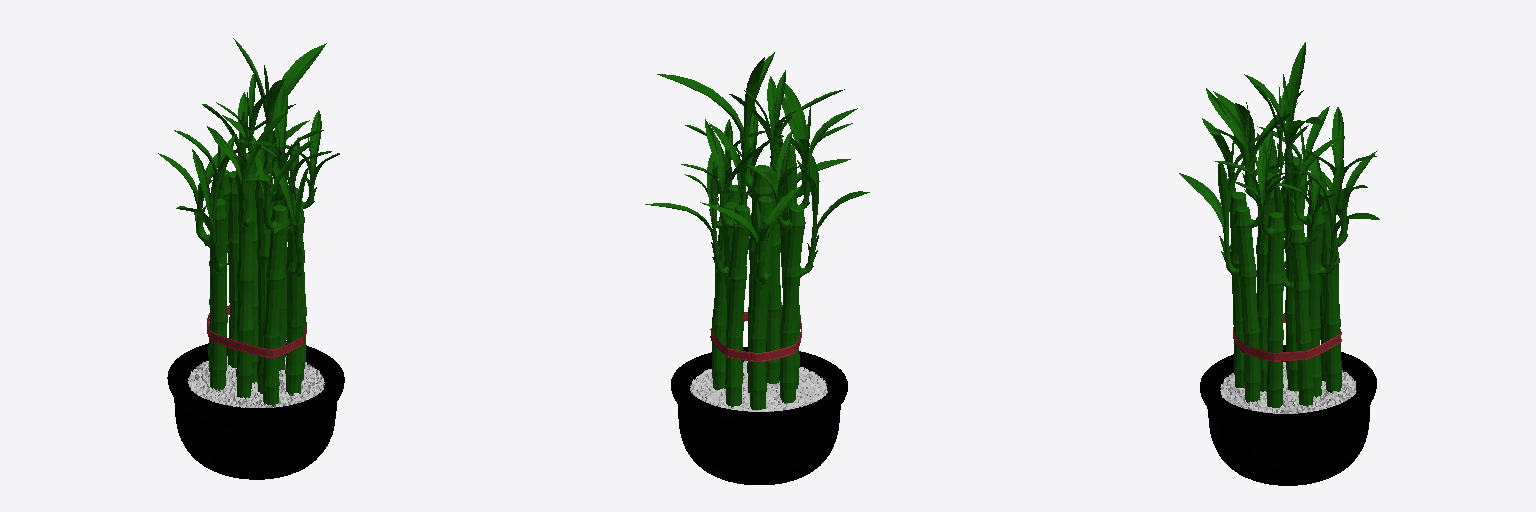
3 views of the same model, side by side, from view 1: azimuth 30°, elevation 25°; view 2: azimuth 150°, elevation 25°; view 3: azimuth 270°, elevation 25° (orthographic).
Parts seen in each view (by area): view 1: Vase_Cylinder, Bamboo.008_Mesh.008, Bamboo.013_Mesh.014, Bamboo.014_Mesh.015, Bamboo.012_Mesh.013, Bamboo.004_Mesh.004, Flints_Plane, Bamboo.009_Mesh.009, Bamboo.007_Mesh.007, Bamboo.006_Mesh.006, Bamboo.000_Mesh.010, Ribbon_Mesh (+1 smaller); view 2: Vase_Cylinder, Bamboo.013_Mesh.014, Bamboo.007_Mesh.007, Bamboo.006_Mesh.006, Bamboo.008_Mesh.008, Bamboo.009_Mesh.009, Flints_Plane, Bamboo.004_Mesh.004, Bamboo.010_Mesh.011, Bamboo.011_Mesh.012, Ribbon_Mesh, Bamboo.012_Mesh.013 (+2 smaller); view 3: Vase_Cylinder, Bamboo.012_Mesh.013, Bamboo.000_Mesh.010, Bamboo.010_Mesh.011, Bamboo.011_Mesh.012, Bamboo.009_Mesh.009, Bamboo.007_Mesh.007, Bamboo.004_Mesh.004, Flints_Plane, Bamboo.014_Mesh.015, Bamboo.008_Mesh.008, Bamboo.006_Mesh.006 (+2 smaller).
Part boxes in pixels (bbox=[...]): Vase_Cylinder: bbox=[167, 341, 344, 479]; Bamboo.008_Mesh.008: bbox=[207, 74, 286, 398]; Bamboo.013_Mesh.014: bbox=[174, 130, 251, 390]; Bamboo.014_Mesh.015: bbox=[248, 140, 314, 406]; Bamboo.012_Mesh.013: bbox=[247, 137, 331, 395]; Bamboo.004_Mesh.004: bbox=[254, 85, 323, 393]; Flints_Plane: bbox=[188, 356, 324, 407]; Bamboo.009_Mesh.009: bbox=[233, 38, 326, 383]; Bamboo.007_Mesh.007: bbox=[202, 92, 295, 367]; Bamboo.006_Mesh.006: bbox=[158, 149, 230, 371]; Bamboo.000_Mesh.010: bbox=[272, 110, 339, 380]; Ribbon_Mesh: bbox=[207, 305, 306, 357]; Vase_Cylinder: bbox=[671, 347, 847, 484]; Bamboo.013_Mesh.014: bbox=[745, 129, 869, 402]; Bamboo.007_Mesh.007: bbox=[681, 119, 763, 407]; Bamboo.006_Mesh.006: bbox=[700, 186, 801, 409]; Bamboo.008_Mesh.008: bbox=[744, 70, 857, 388]; Bamboo.009_Mesh.009: bbox=[657, 52, 774, 392]; Flints_Plane: bbox=[690, 361, 827, 411]; Bamboo.004_Mesh.004: bbox=[729, 76, 844, 383]; Bamboo.010_Mesh.011: bbox=[645, 123, 748, 381]; Bamboo.011_Mesh.012: bbox=[685, 165, 749, 389]; Ribbon_Mesh: bbox=[710, 312, 801, 361]; Bamboo.012_Mesh.013: bbox=[719, 105, 850, 197]; Vase_Cylinder: bbox=[1200, 345, 1376, 485]; Bamboo.012_Mesh.013: bbox=[1179, 130, 1284, 402]; Bamboo.000_Mesh.010: bbox=[1234, 141, 1299, 407]; Bamboo.010_Mesh.011: bbox=[1284, 135, 1379, 397]; Bamboo.011_Mesh.012: bbox=[1272, 159, 1335, 406]; Bamboo.009_Mesh.009: bbox=[1244, 42, 1321, 391]; Bamboo.007_Mesh.007: bbox=[1301, 107, 1376, 392]; Bamboo.004_Mesh.004: bbox=[1206, 88, 1290, 391]; Flints_Plane: bbox=[1220, 362, 1356, 413]; Bamboo.014_Mesh.015: bbox=[1202, 118, 1263, 387]; Bamboo.008_Mesh.008: bbox=[1213, 81, 1303, 200]; Bamboo.006_Mesh.006: bbox=[1293, 151, 1376, 381].
Size of the model in its own units: 15.53 by 34.11 by 14.91.
Materials: 4 (1 with a texture image).